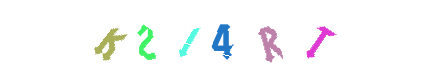2: (106, 0, 186, 80)
4: (175, 0, 255, 80)
I: (151, 0, 231, 80)
K: (69, 0, 149, 80)
R: (182, 0, 262, 80)
T: (249, 0, 329, 80)
